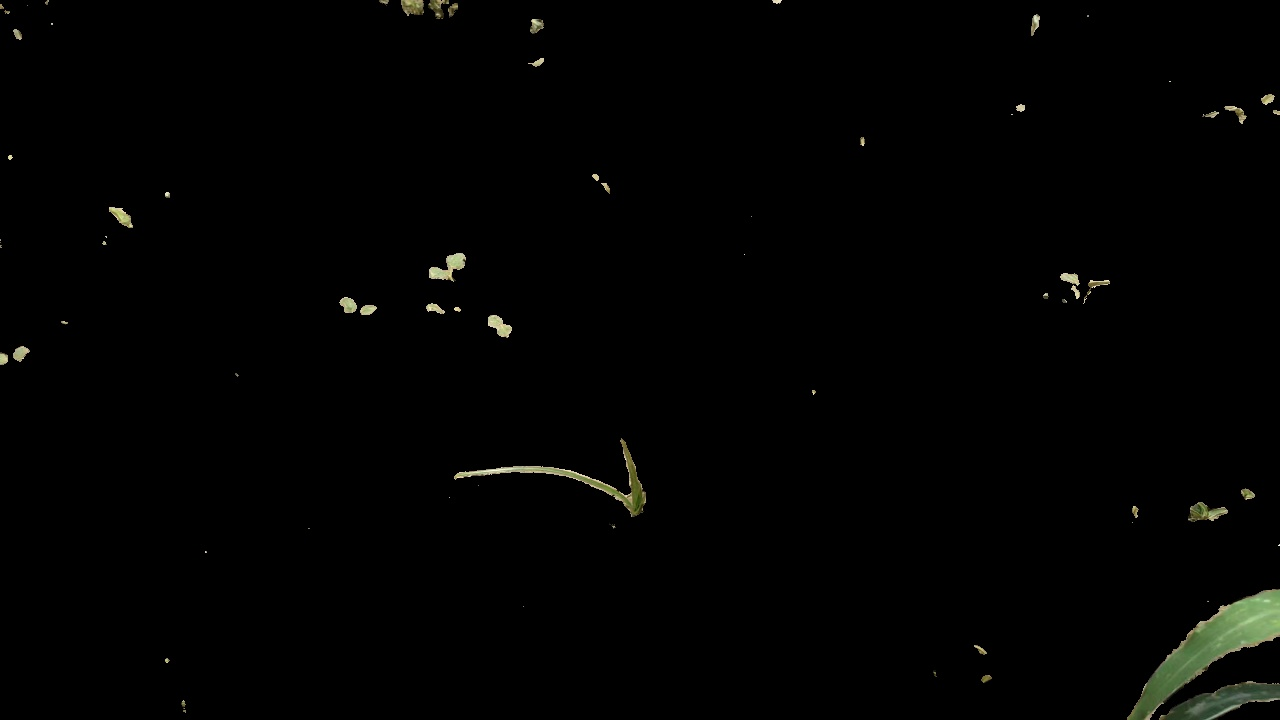crop: (1099, 573, 1280, 717)
weed: (442, 439, 653, 525), (1052, 269, 1113, 325), (432, 235, 465, 291), (327, 294, 381, 319), (485, 309, 524, 342), (1188, 491, 1232, 517), (391, 1, 462, 17), (1, 345, 28, 369)
